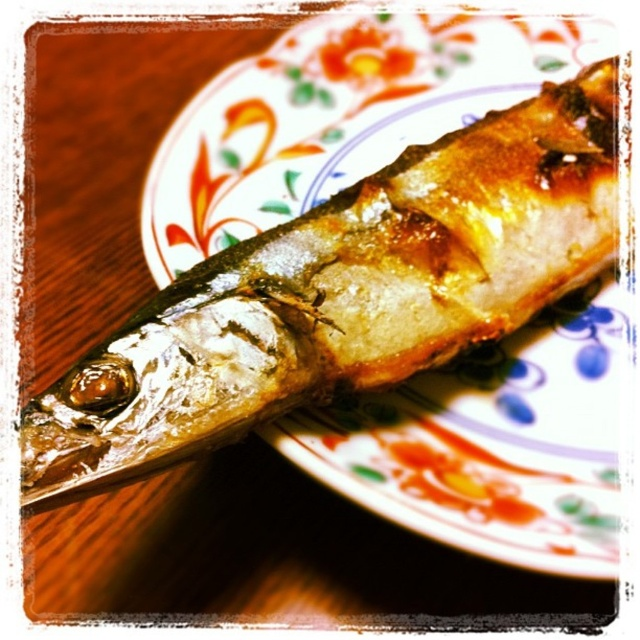Fish: (20, 51, 631, 508)
